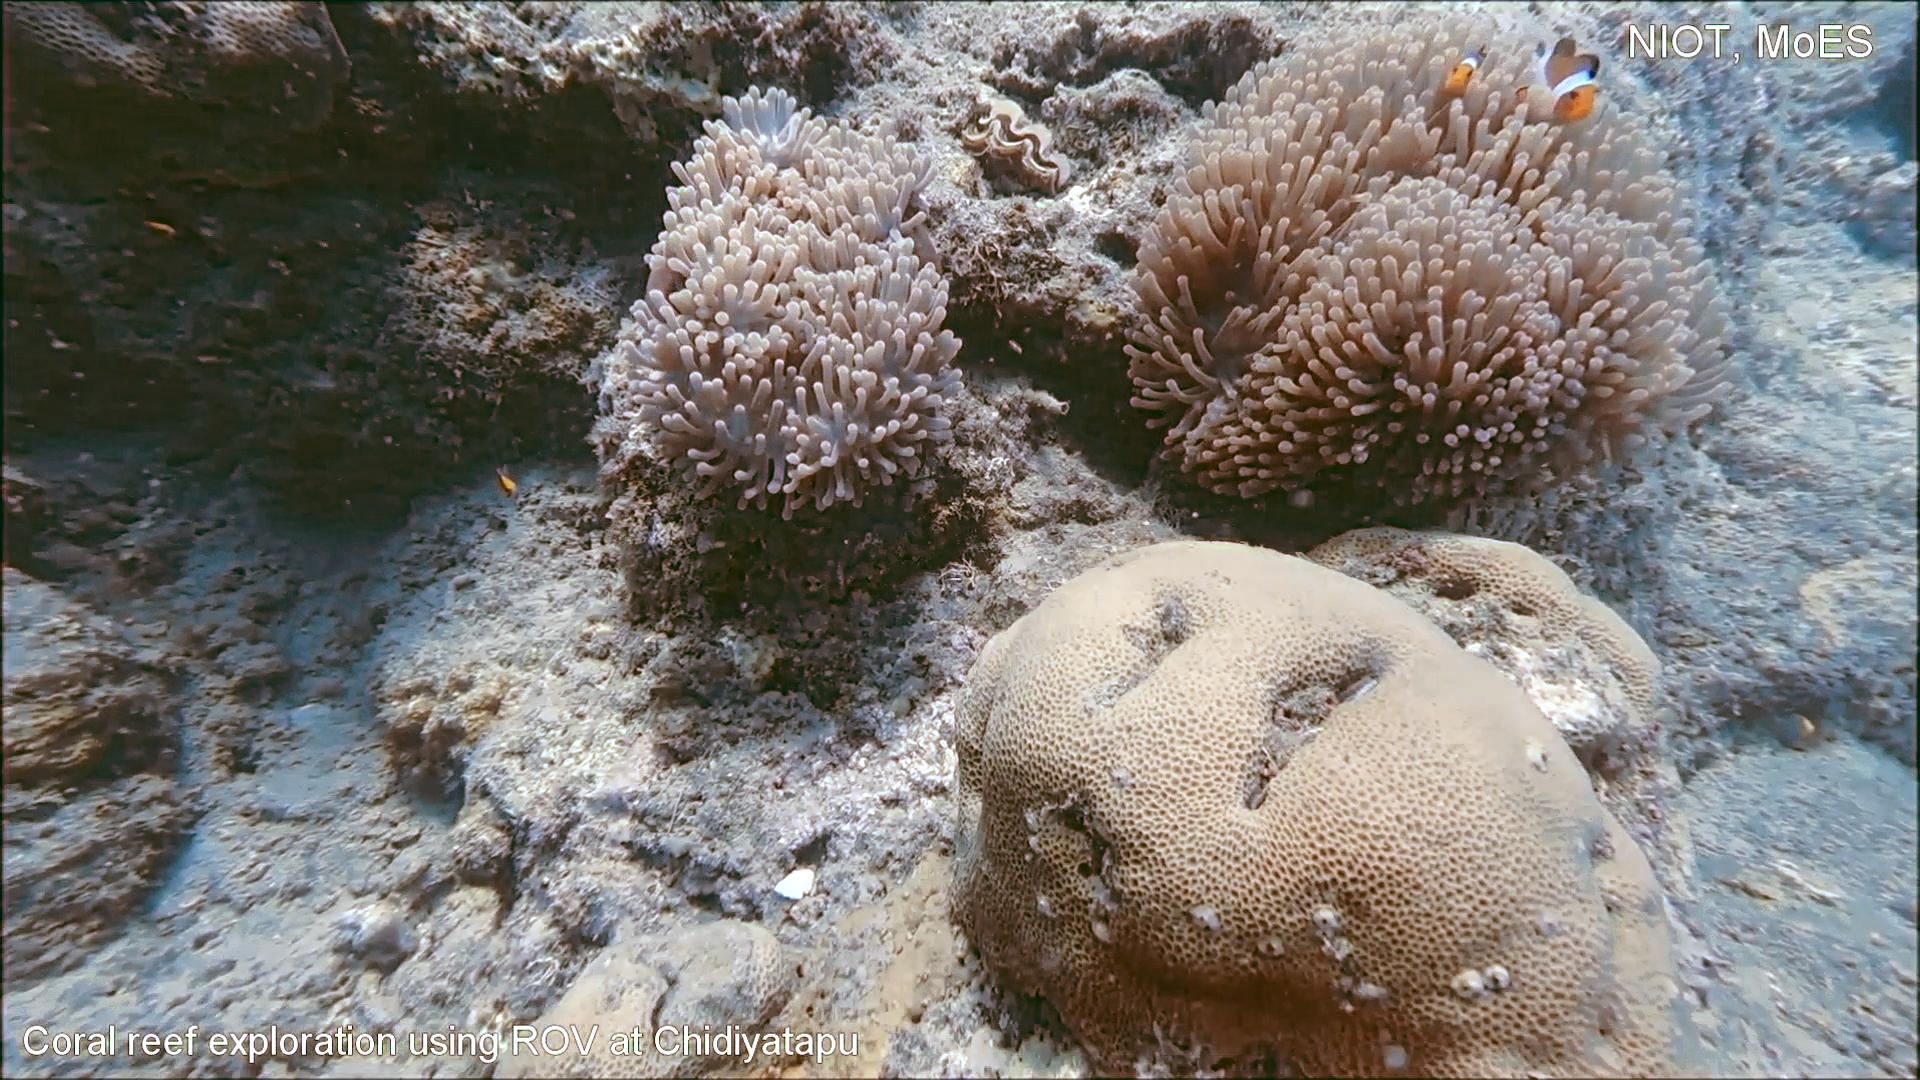Macrodactyla doreensis-Long tentacle Anemone: (1112, 0, 1755, 521), (584, 80, 977, 524)
Tridacna Clam: (945, 78, 1083, 206)
